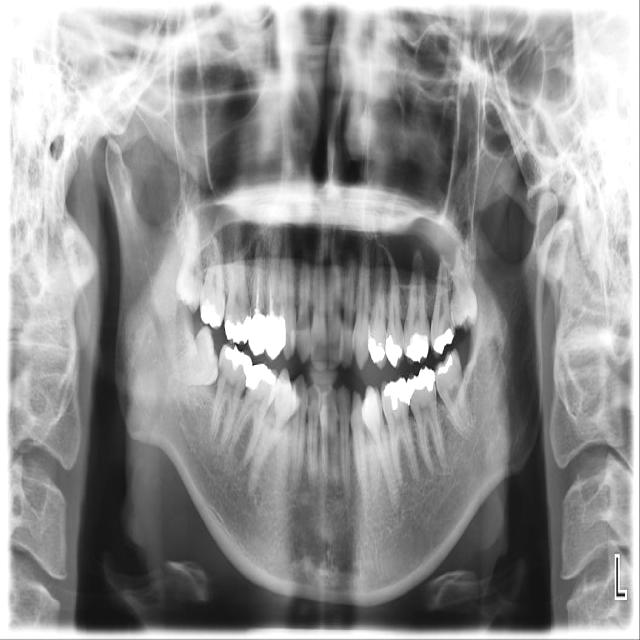Crown: (264, 310, 286, 361), (248, 307, 267, 357)
Filling: (382, 378, 411, 412), (223, 347, 252, 377), (407, 368, 434, 400), (405, 331, 429, 364), (245, 365, 277, 388), (224, 314, 250, 342), (432, 325, 456, 353), (367, 334, 387, 364), (385, 334, 402, 366), (201, 304, 224, 326), (435, 353, 454, 377)
Root Canal Treatment: (256, 258, 261, 312)
impacted tooth: (165, 328, 218, 382)
